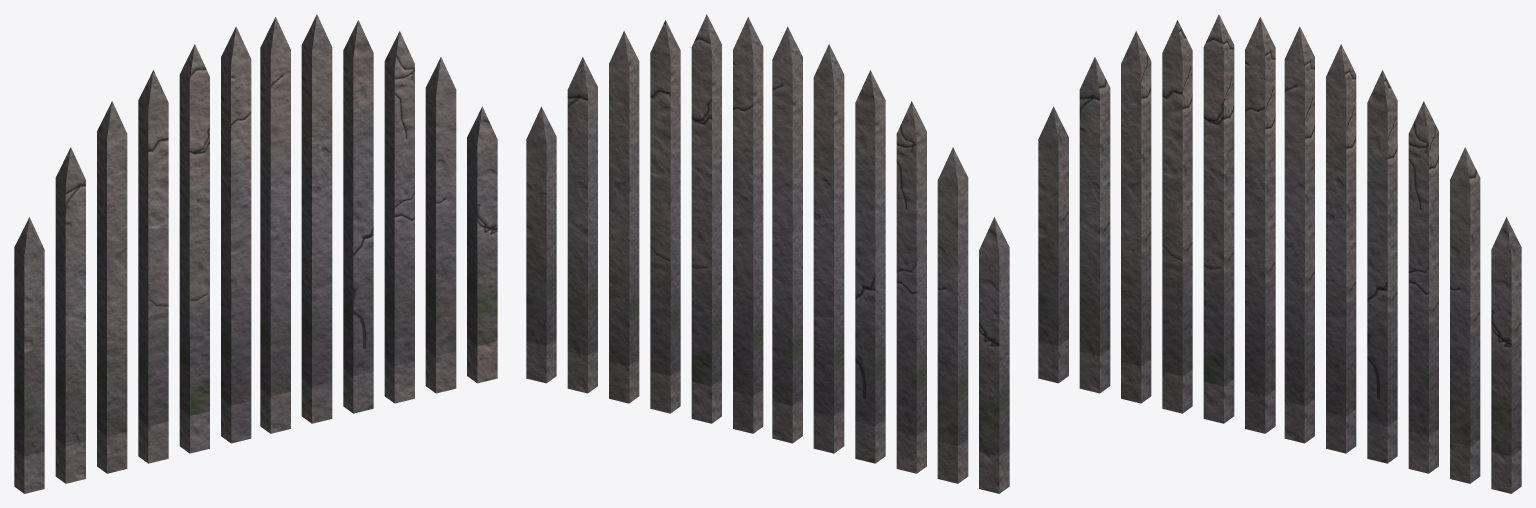
The model's file is House_Rooftop_Gate.fbx.
3 views of the same model, side by side, from view 1: azimuth 30°, elevation 25°; view 2: azimuth 150°, elevation 25°; view 3: azimuth 330°, elevation 25° (orthographic).
Visible parts, largest first — view 1: House_Rooftop_Gate; view 2: House_Rooftop_Gate; view 3: House_Rooftop_Gate.
Part boxes in pixels (x1,y1,x2,y2): House_Rooftop_Gate: (14, 14, 497, 493); House_Rooftop_Gate: (526, 14, 1009, 493); House_Rooftop_Gate: (1038, 14, 1521, 493).
Size of the model in its own units: 2.81 by 2.34 by 0.1052.
